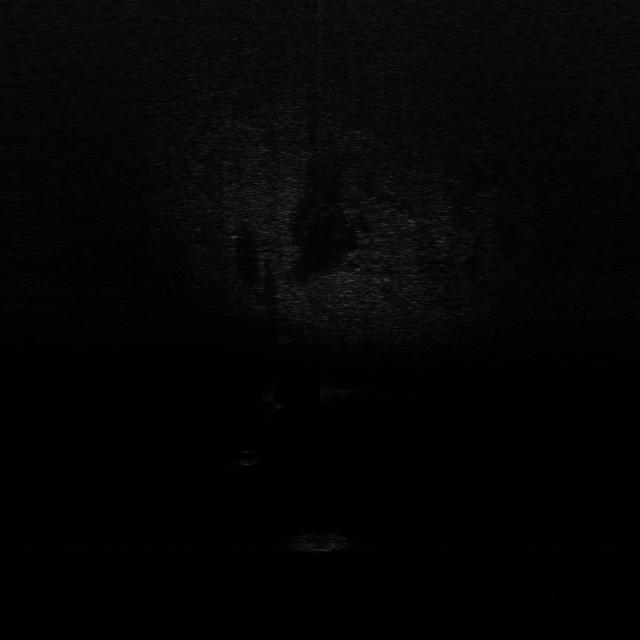ball: (233, 446, 263, 468)
circle cage: (292, 529, 352, 555)
human body: (258, 376, 288, 422)
